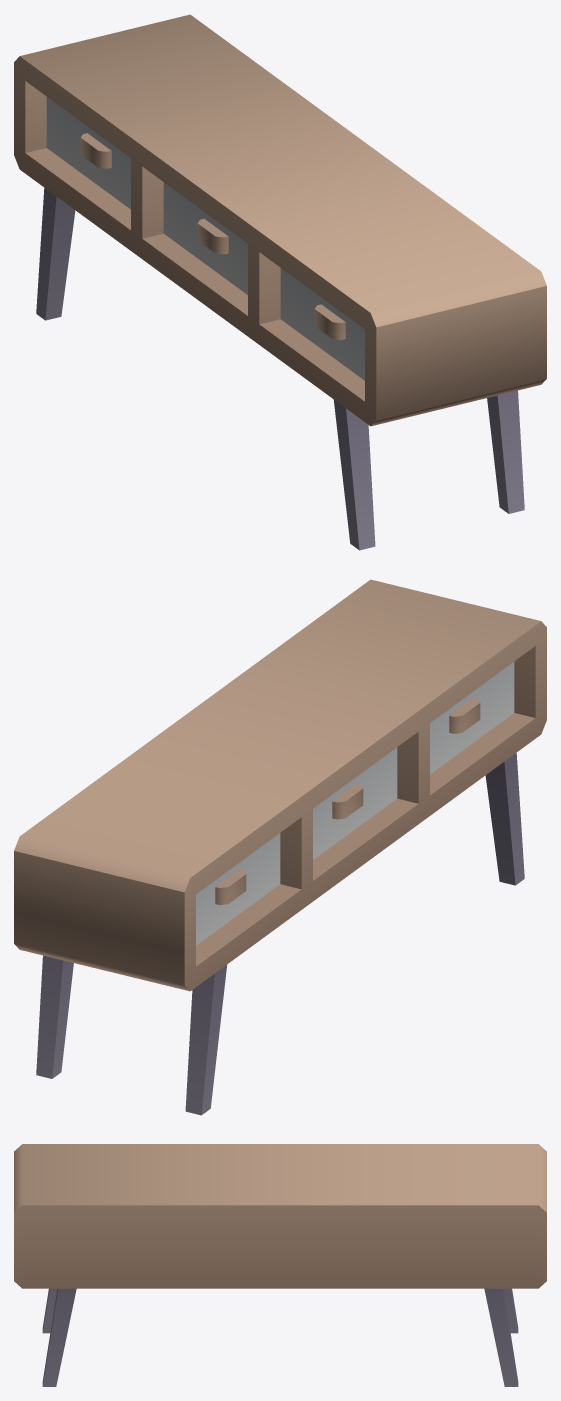
File: sidetable-drawers-wide.glb
3 renders of one model, top to bottom at view 1: azimuth 30°, elevation 25°; view 2: azimuth 150°, elevation 25°; view 3: azimuth 270°, elevation 25°, orthographic. The views are drawn at different scales.
Visible parts, largest first — view 1: sidetable-drawers-wide; view 2: sidetable-drawers-wide; view 3: sidetable-drawers-wide.
Part boxes in pixels (<box>): sidetable-drawers-wide: <box>14,14,546,550</box>; sidetable-drawers-wide: <box>14,579,546,1115</box>; sidetable-drawers-wide: <box>14,1144,546,1386</box>.
Size of the model in its own units: 0.4 by 0.556 by 1.47.
